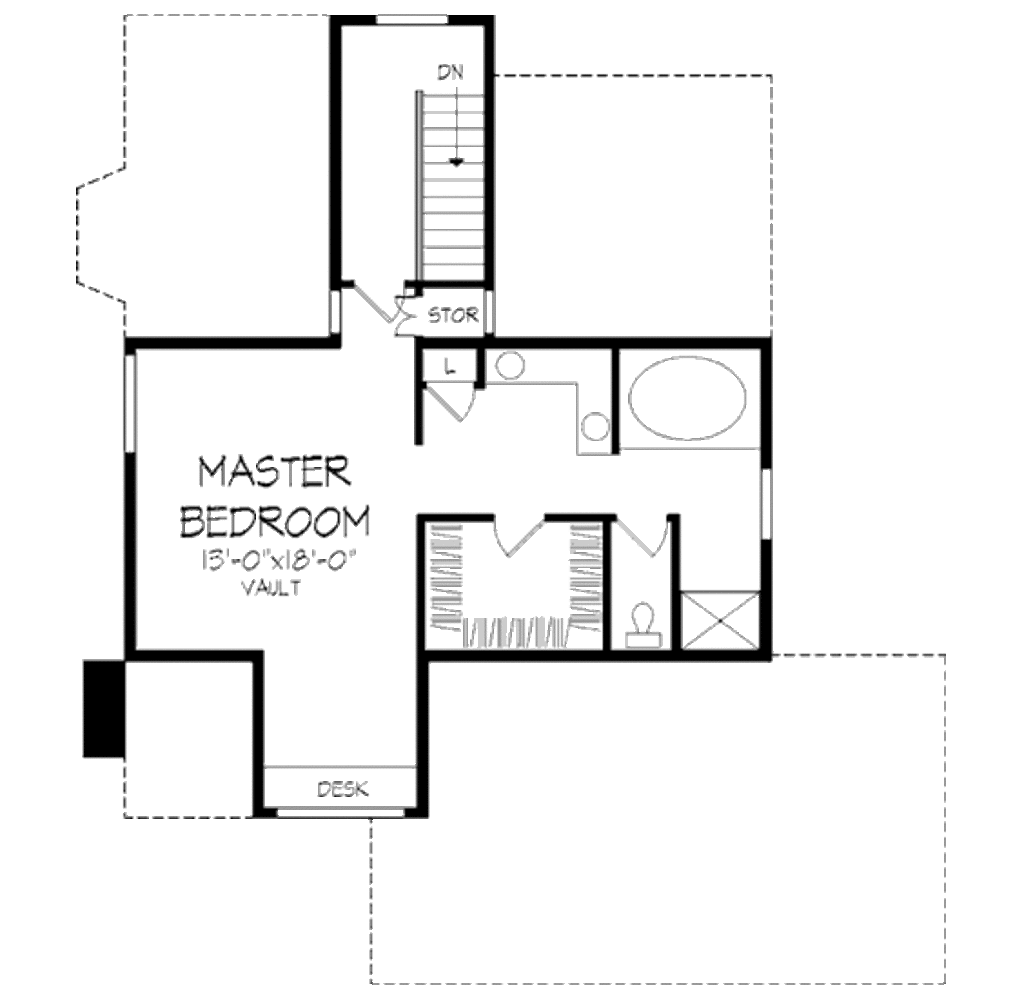door: (609, 513, 684, 565), (492, 512, 546, 565), (426, 377, 478, 427), (391, 295, 441, 340), (356, 279, 406, 321)
large_sink: (616, 587, 673, 651)
small_sink: (484, 342, 621, 460)
stairs: (413, 90, 500, 285)
window: (271, 802, 416, 826), (118, 351, 149, 458), (751, 467, 778, 540), (373, 11, 453, 31), (323, 288, 346, 333)
